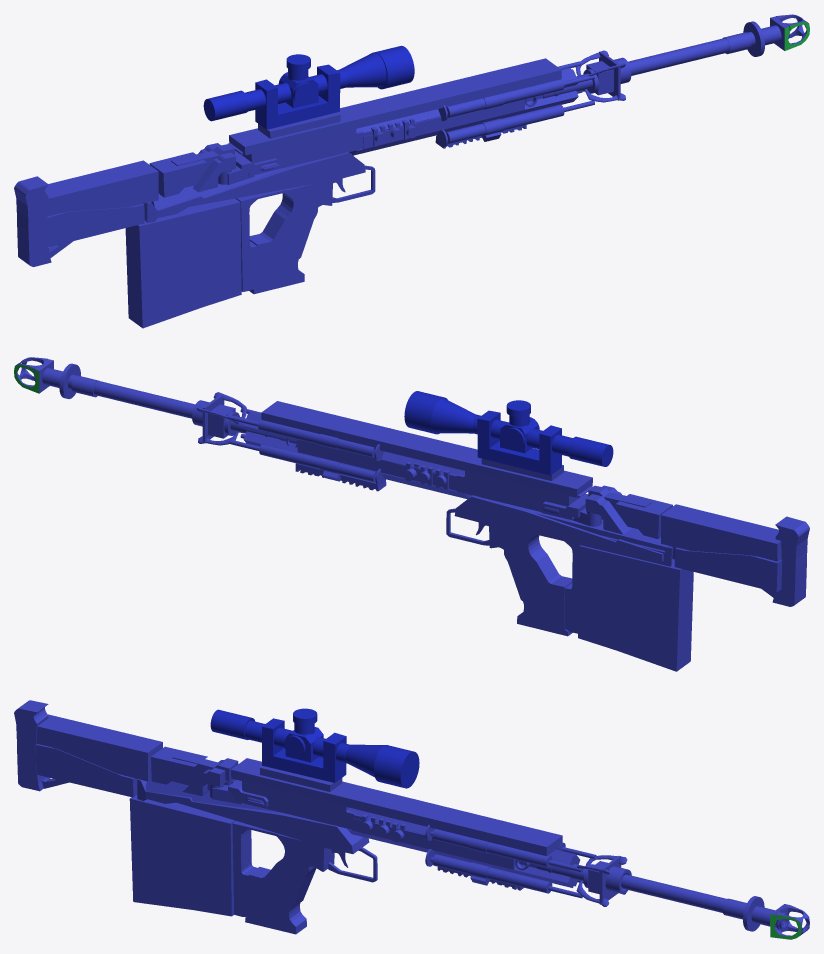
File: lynx2.glb
The picture shows the model from 3 angles, top to bottom: view 1: azimuth 30°, elevation 25°; view 2: azimuth 150°, elevation 25°; view 3: azimuth 330°, elevation 25°; orthographic projection.
Size of the model in its own units: 0.4746 by 0.1284 by 0.024.
Materials: 5 (4 with a texture image).
